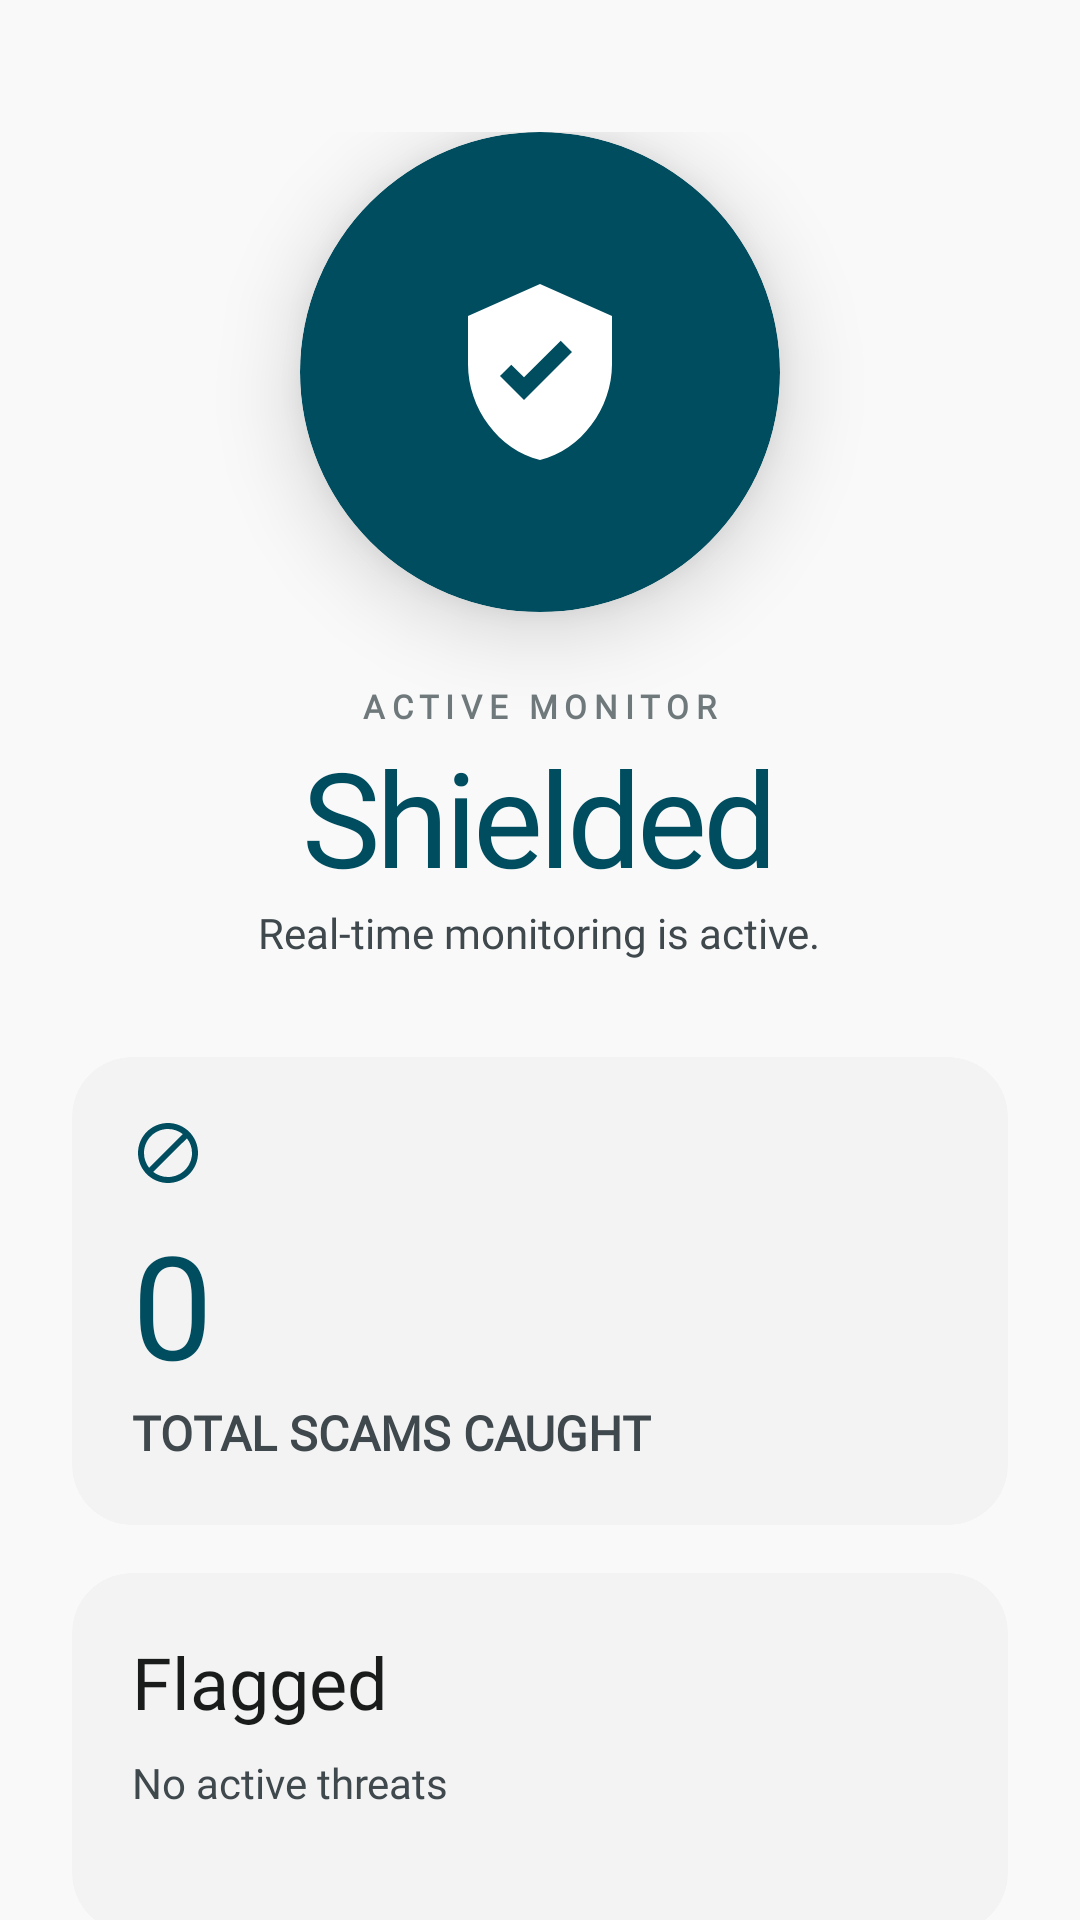

Screen size 1080 x 1920. Icon name, then its center in pixels as point (x, y):
block: point (168, 1153)
shield check: point (540, 372)
